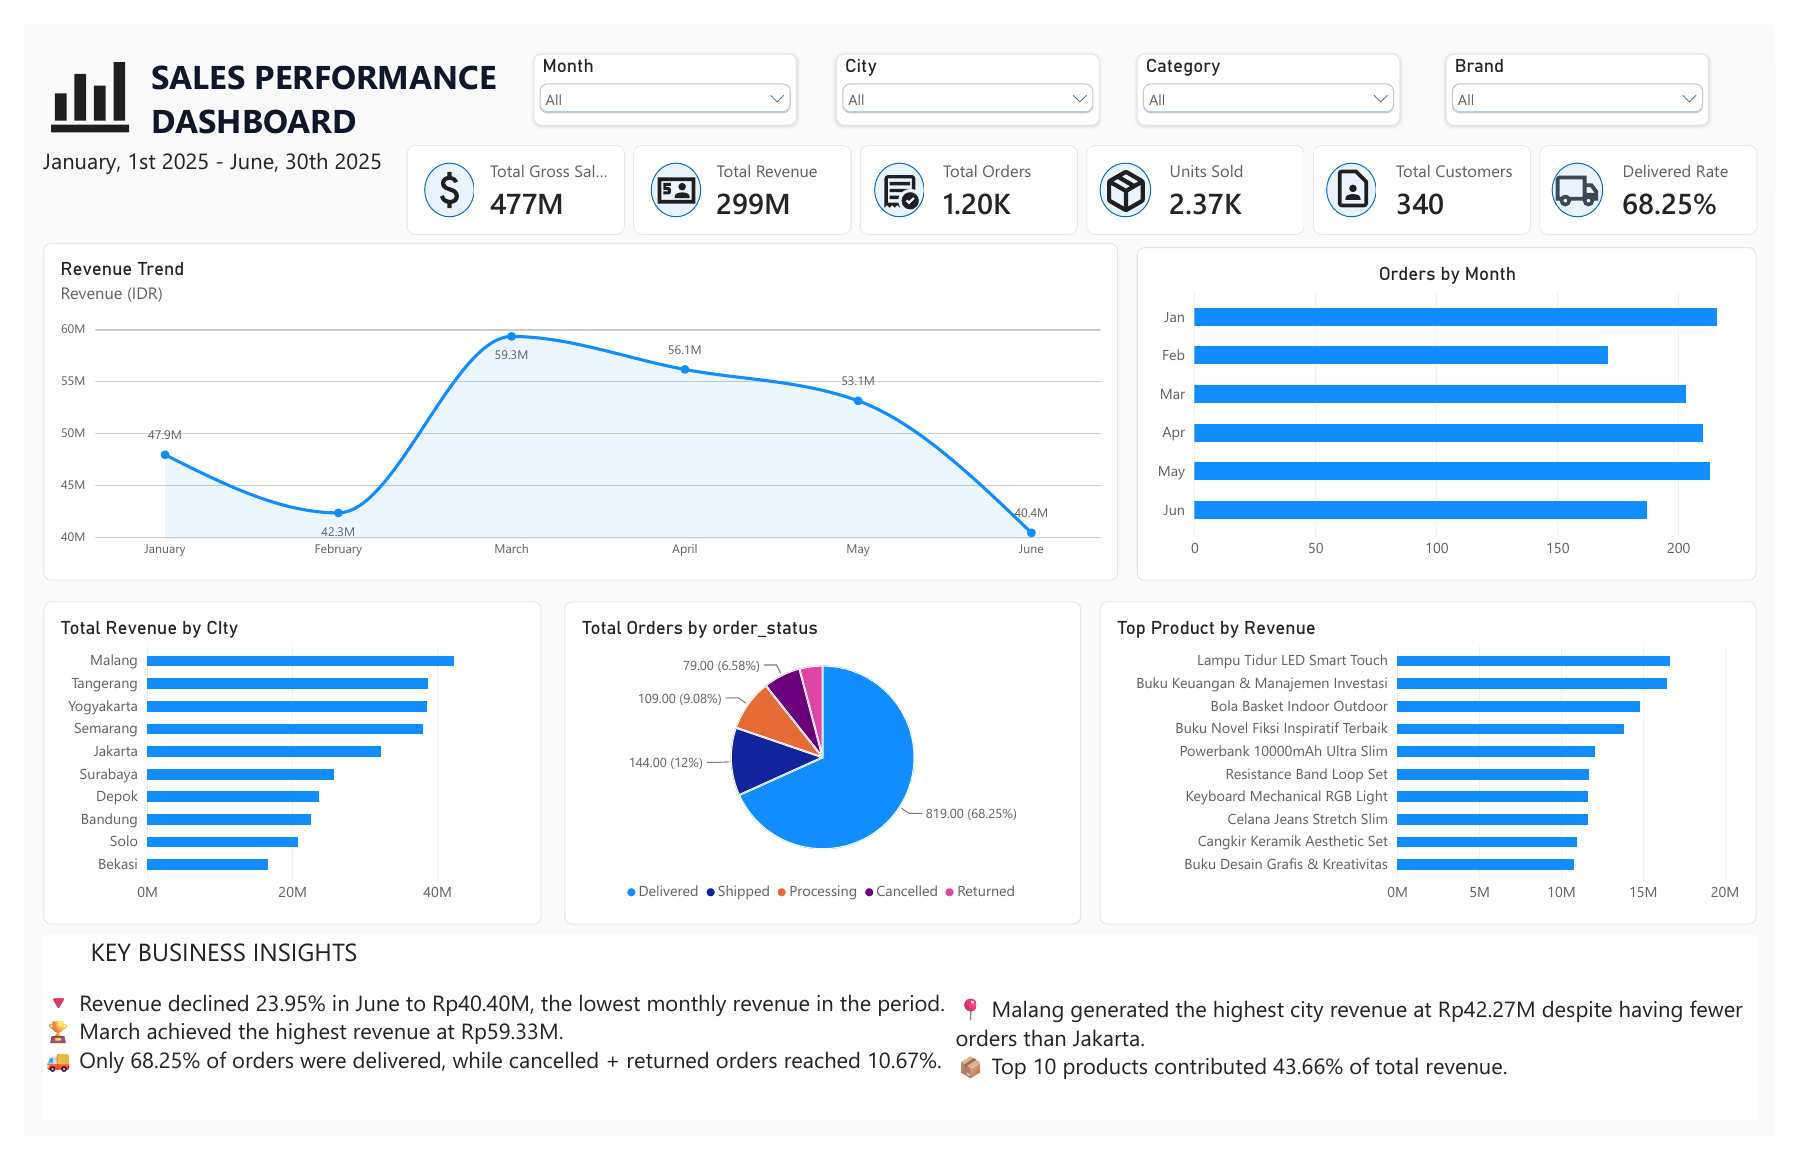

This screenshot's page, from the dashboard's own definition file:
{"tool":"powerbi","page":{"name":"Page 1","canvas":[1700,1080],"ordinal":0},"visuals":[{"type":"cardVisual","fields":{"Data":["clean.Total Gross Sales","clean.Total Revenue","clean.Total Orders","clean.Units Sold","clean.Total Customers","clean.Delivered Rate"]},"box":[371.2,116.9,1311.4,87.1],"z":0},{"type":"lineChart","title":"Revenue Trend","fields":{"Category":["clean.month.Variation.Date Hierarchy.Month"],"Y":["clean.Total Revenue"]},"box":[18,212,1044,328],"z":1000},{"type":"clusteredBarChart","title":"Orders by Month","fields":{"Category":["clean.Month Name"],"Y":["clean.Total Orders"]},"box":[1080,216,602,324],"z":2000},{"type":"textbox","box":[123.3,27.5,337.5,90],"z":3000},{"type":"barChart","title":"Total Revenue by CIty","fields":{"Category":["clean.city"],"Y":["clean.Total Revenue"]},"box":[18,560,484.4,314.4],"z":4000},{"type":"pieChart","fields":{"Category":["clean.order_status"],"Y":["clean.Total Orders"]},"box":[524,560,502,314],"z":5000},{"type":"barChart","title":"Top Product by Revenue","fields":{"Category":["clean.product_name"],"Y":["clean.Total Revenue"]},"box":[1044,560,638,314],"z":6000},{"type":"shape","box":[387.5,134.4,49.4,52.5],"z":7000},{"type":"shape","box":[607.5,134.4,49.4,52.5],"z":8000},{"type":"shape","box":[825,134.4,49.4,52.5],"z":9000},{"type":"shape","box":[1263.8,134.4,49.4,52.5],"z":10000},{"type":"shape","box":[1044.4,134.4,49.4,52.5],"z":11000},{"type":"image","box":[386.2,136.9,52.5,46.9],"z":12000},{"type":"image","box":[610.6,133.1,44.4,54.4],"z":13000},{"type":"image","box":[814.4,140.6,70.6,40.6],"z":14000},{"type":"image","box":[1028.1,136.9,81.9,48.8],"z":15000},{"type":"image","box":[1250.6,136.9,78.1,44.4],"z":16000},{"type":"image","box":[1471.2,139.4,73.1,44.4],"z":17000},{"type":"shape","box":[1483.1,134.4,49.4,52.5],"z":18000},{"type":"image","box":[18.3,0,90.8,140.8],"z":19000},{"type":"textbox","box":[17.5,117.5,345,45],"z":20000},{"type":"slicer","fields":{"Values":["clean.Month Name"]},"box":[494,28,256,70],"z":21000},{"type":"slicer","fields":{"Values":["clean.city"]},"box":[788,28,256,70],"z":22000},{"type":"slicer","fields":{"Values":["clean.Month Name","clean.category"]},"box":[1080,28,256,70],"z":23000},{"type":"slicer","fields":{"Values":["clean.Month Name","clean.brand"]},"box":[1380,28,256,70],"z":24000},{"type":"textbox","box":[18.2,883.9,885.7,180.4],"z":25000},{"type":"textbox","box":[903.9,883.9,778.2,180.4],"z":26000}]}

Visuals, with their boxes in screenshot pixels (x1, y1, x2, y2), scaled from the page's 1700x1080 canvas onto the 1800x1162 screenshot:
cardVisual - clean.Total Gross Sales x clean.Total Revenue: (x1=393, y1=126, x2=1782, y2=219)
"Revenue Trend" lineChart: (x1=19, y1=228, x2=1124, y2=581)
"Orders by Month" clusteredBarChart: (x1=1144, y1=232, x2=1781, y2=581)
textbox: (x1=131, y1=30, x2=488, y2=126)
"Total Revenue by CIty" barChart: (x1=19, y1=603, x2=532, y2=941)
pieChart - clean.order_status x clean.Total Orders: (x1=555, y1=603, x2=1086, y2=940)
"Top Product by Revenue" barChart: (x1=1105, y1=603, x2=1781, y2=940)
shape: (x1=410, y1=145, x2=463, y2=201)
shape: (x1=643, y1=145, x2=696, y2=201)
shape: (x1=874, y1=145, x2=926, y2=201)
shape: (x1=1338, y1=145, x2=1390, y2=201)
shape: (x1=1106, y1=145, x2=1158, y2=201)
image: (x1=409, y1=147, x2=465, y2=198)
image: (x1=647, y1=143, x2=694, y2=202)
image: (x1=862, y1=151, x2=937, y2=195)
image: (x1=1089, y1=147, x2=1175, y2=200)
image: (x1=1324, y1=147, x2=1407, y2=195)
image: (x1=1558, y1=150, x2=1635, y2=198)
shape: (x1=1570, y1=145, x2=1623, y2=201)
image: (x1=19, y1=0, x2=116, y2=151)
textbox: (x1=19, y1=126, x2=384, y2=175)
slicer - clean.Month Name: (x1=523, y1=30, x2=794, y2=105)
slicer - clean.city: (x1=834, y1=30, x2=1105, y2=105)
slicer - clean.Month Name x clean.category: (x1=1144, y1=30, x2=1415, y2=105)
slicer - clean.Month Name x clean.brand: (x1=1461, y1=30, x2=1732, y2=105)
textbox: (x1=19, y1=951, x2=957, y2=1145)
textbox: (x1=957, y1=951, x2=1781, y2=1145)
